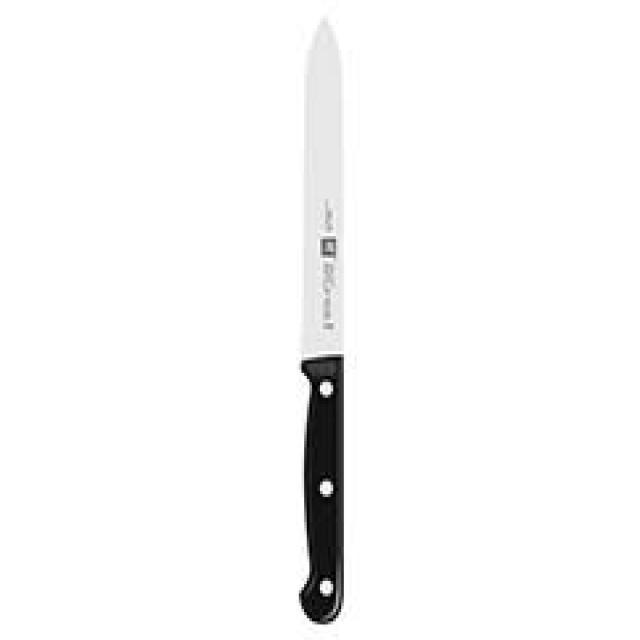knife: (296, 10, 366, 631)
